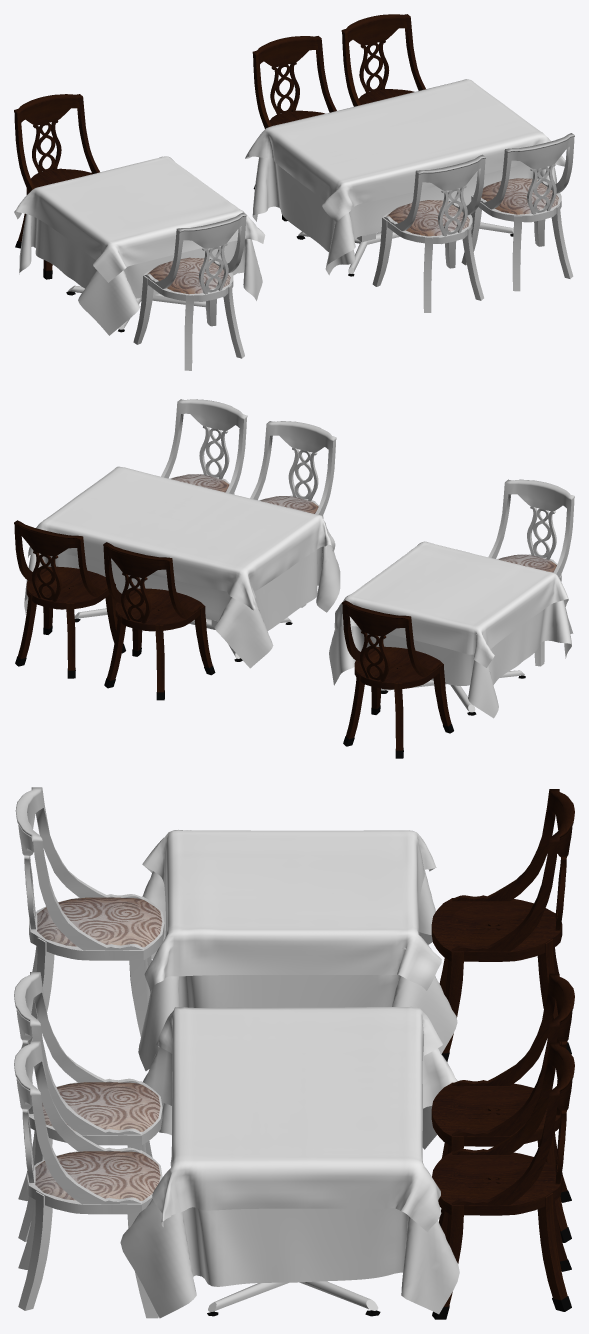
File: Tables2.fbx
3 views of the same model, one above another, from view 1: azimuth 30°, elevation 25°; view 2: azimuth 150°, elevation 25°; view 3: azimuth 270°, elevation 25° (orthographic). The views are drawn at different scales.
Parts seen in each view (by area): view 1: SmallCover4.005, SmallCover2.008, BigCover2.001, BigCover4.009, Chair Inside.002, Chair Inside.012, Chair Inside.001, Table4.002, Table4.001, Table4.019, Table4.006, Table2.009; view 2: SmallCover4.005, SmallCover2.008, BigCover2.001, Table4.002, Table4.019, BigCover4.009, Table4.001, Chair Inside.002, Chair Inside.001, Chair Inside.012, Table2.009, Table4.006; view 3: SmallCover4.005, SmallCover2.008, BigCover2.001, Table4.001, Chair Inside.001, Chair Inside.002, Table4.002, BigCover4.009, Chair Inside.012, Table4.019, Table4.006.
Part boxes in pixels (left/top/right/bottom): SmallCover4.005: left=245, top=79, right=565, bottom=223; SmallCover2.008: left=14, top=156, right=265, bottom=282; BigCover2.001: left=252, top=157, right=556, bottom=275; BigCover4.009: left=19, top=214, right=262, bottom=335; Chair Inside.002: left=133, top=212, right=246, bottom=370; Chair Inside.012: left=372, top=154, right=485, bottom=312; Chair Inside.001: left=461, top=133, right=574, bottom=291; Table4.002: left=14, top=94, right=99, bottom=279; Table4.001: left=341, top=14, right=425, bottom=106; Table4.019: left=252, top=36, right=336, bottom=221; Table4.006: left=296, top=222, right=513, bottom=276; Table2.009: left=66, top=285, right=205, bottom=332; SmallCover4.005: left=28, top=466, right=335, bottom=610; SmallCover2.008: left=334, top=541, right=568, bottom=667; BigCover2.001: left=24, top=544, right=340, bottom=668; Table4.002: left=342, top=600, right=453, bottom=758; Table4.019: left=103, top=542, right=215, bottom=700; BigCover4.009: left=329, top=600, right=571, bottom=718; Table4.001: left=14, top=520, right=125, bottom=678; Chair Inside.002: left=488, top=479, right=574, bottom=666; Chair Inside.001: left=161, top=399, right=247, bottom=494; Chair Inside.012: left=250, top=421, right=336, bottom=607; Table2.009: left=381, top=670, right=525, bottom=715; Table4.006: left=74, top=608, right=292, bottom=661; SmallCover4.005: left=152, top=1006, right=443, bottom=1231; SmallCover2.008: left=142, top=830, right=441, bottom=990; BigCover2.001: left=120, top=1046, right=459, bottom=1318; Table4.001: left=432, top=1042, right=574, bottom=1319; Chair Inside.001: left=14, top=1041, right=162, bottom=1318; Chair Inside.002: left=15, top=787, right=164, bottom=1048; Table4.002: left=431, top=789, right=574, bottom=1061; BigCover4.009: left=138, top=869, right=457, bottom=1070; Chair Inside.012: left=14, top=972, right=162, bottom=1241; Table4.019: left=431, top=973, right=574, bottom=1242; Table4.006: left=207, top=1281, right=380, bottom=1316.
Size of the model in its own units: 1334 by 381 by 853.
